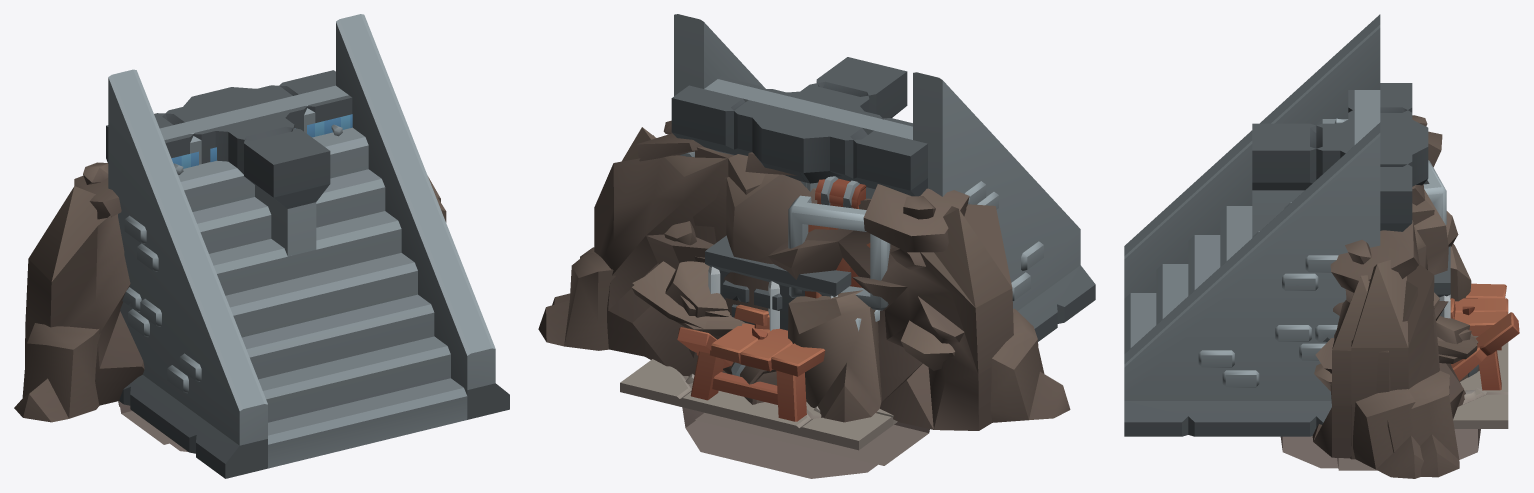
The model's file is dungeon-kit.glb.
The picture shows the model from 3 angles, left to right: view 1: azimuth 30°, elevation 25°; view 2: azimuth 150°, elevation 25°; view 3: azimuth 270°, elevation 25°; orthographic projection. The views are drawn at different scales.
Parts seen in each view (by area): view 1: stairs, rubble_large, wall_corner, wall_arched, banner_triple_blue, wall_pillar, floor_tile_grate; view 2: rubble_large, rubble_half, stairs, table_long_broken, wall_shelves, floor_tile_big_grate, box_stacked, floor_tile_large_rocks, wall_arched, wall_corner, floor_foundation_allsides, wall_pillar (+5 smaller); view 3: stairs, rubble_half, rubble_large, wall_corner, wall_arched, table_long_broken, floor_tile_large_rocks, floor_tile_big_grate, wall_pillar, wall, box_stacked, floor_dirt_large (+1 smaller).
Boxes of the visible parts, x1,y1,x2,y2 form: stairs: (108, 14, 509, 478); rubble_large: (14, 162, 446, 422); wall_corner: (190, 117, 330, 256); wall_arched: (106, 70, 352, 163); banner_triple_blue: (171, 114, 352, 174); wall_pillar: (183, 87, 289, 161); floor_tile_grate: (119, 401, 174, 444); rubble_large: (552, 135, 1070, 430); rubble_half: (538, 120, 765, 376); stairs: (674, 14, 1095, 341); table_long_broken: (677, 304, 825, 421); wall_shelves: (671, 98, 922, 196); floor_tile_big_grate: (620, 389, 891, 478); box_stacked: (723, 176, 890, 404); floor_tile_large_rocks: (620, 359, 896, 449); wall_arched: (672, 76, 927, 196); wall_corner: (796, 57, 907, 198); floor_foundation_allsides: (705, 235, 851, 330); wall_pillar: (752, 91, 914, 191); stairs: (1124, 14, 1380, 436); rubble_half: (1330, 200, 1477, 477); rubble_large: (1312, 115, 1478, 478); wall_corner: (1252, 107, 1402, 236); wall_arched: (1348, 83, 1412, 231); table_long_broken: (1450, 283, 1519, 390); floor_tile_large_rocks: (1453, 342, 1508, 421); floor_tile_big_grate: (1280, 420, 1487, 468); wall_pillar: (1332, 120, 1428, 186); wall: (1380, 174, 1412, 231); box_stacked: (1423, 160, 1479, 381); floor_dirt_large: (1453, 389, 1508, 428).
Bounding box in the file's own units: 8.13 × 6.3 × 6.18.
Materials: 1 (1 with a texture image).
